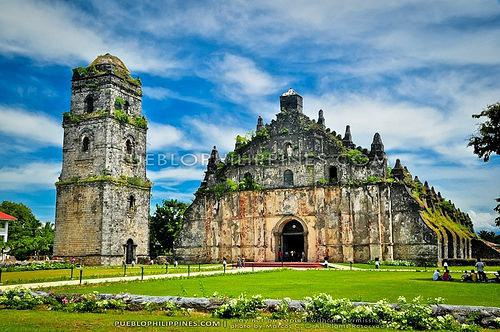paoay_church_paoay_ilocos_norte: (46, 43, 445, 275)
vegetation_damage: (106, 105, 151, 130), (112, 172, 153, 192), (339, 146, 370, 169), (61, 108, 104, 124), (211, 175, 238, 196), (241, 172, 261, 192)
